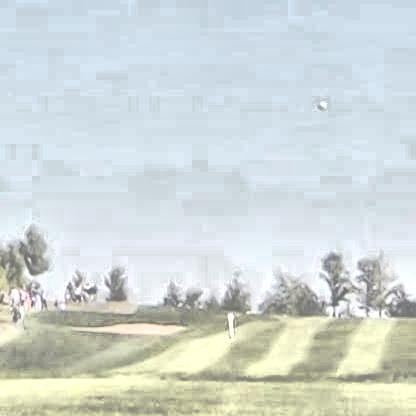golfball: (314, 99, 324, 109)
